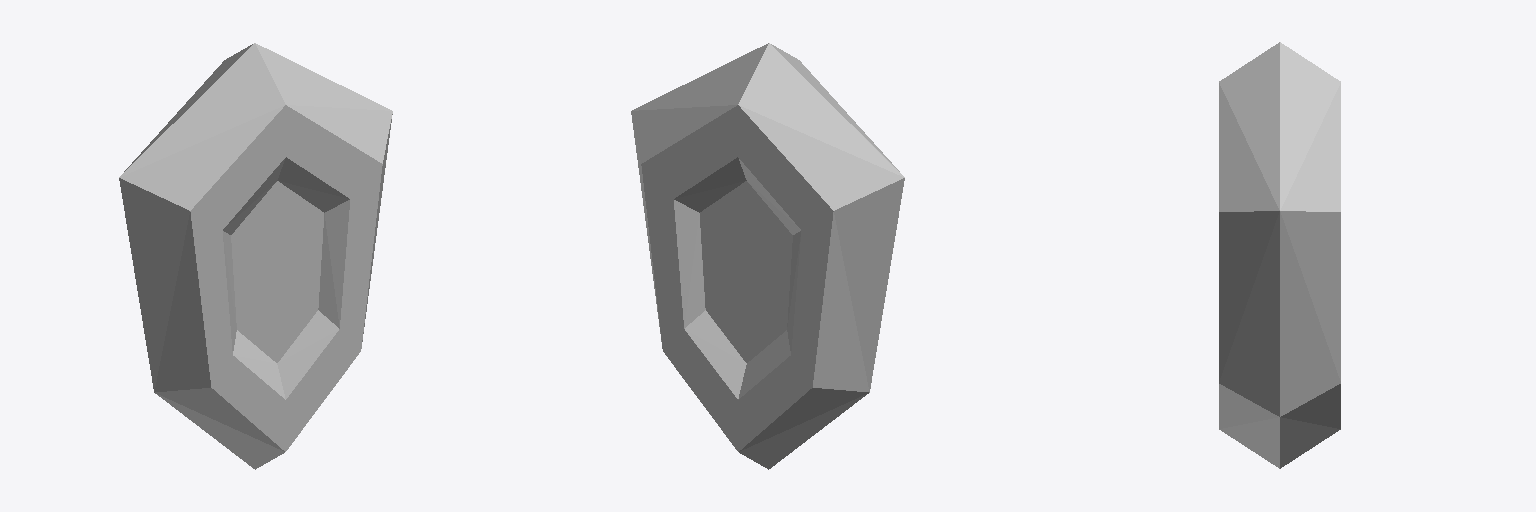
File: health.obj
3 views of the same model, side by side, from view 1: azimuth 30°, elevation 25°; view 2: azimuth 150°, elevation 25°; view 3: azimuth 270°, elevation 25° (orthographic).
Parts seen in each view (by area): view 1: Joya_19_Mesh.043; view 2: Joya_19_Mesh.043; view 3: Joya_19_Mesh.043.
Part boxes in pixels (bbox=[...]): Joya_19_Mesh.043: bbox=[119, 43, 392, 469]; Joya_19_Mesh.043: bbox=[631, 43, 904, 469]; Joya_19_Mesh.043: bbox=[1219, 42, 1340, 468].
Size of the model in its own units: 0.0158 by 0.0235 by 0.0061.